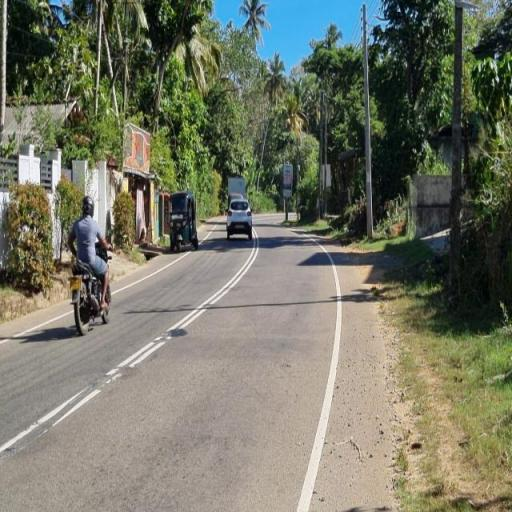double_white_line: (108, 228, 262, 386)
